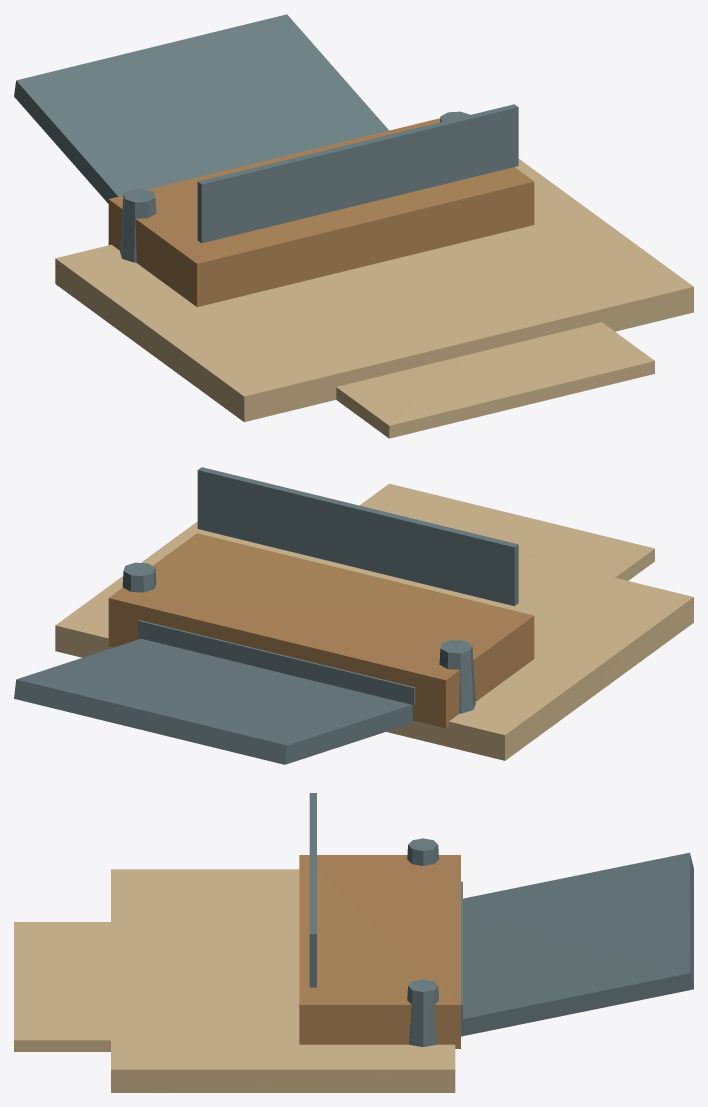
File: Ferry-Landing.glb
The picture shows the model from 3 angles, top to bottom: view 1: azimuth 30°, elevation 25°; view 2: azimuth 150°, elevation 25°; view 3: azimuth 270°, elevation 25°; orthographic projection. The views are drawn at different scales.
Parts seen in each view (by area): view 1: ferry-landing-static-ferry-concrete, ferry-landing-static-ferry-dark-metal, ferry-landing-static-ferry-muted-teal, ferry-landing-static-ferry-galvanized, ferry-landing-static-ferry-warm-cream; view 2: ferry-landing-static-ferry-muted-teal, ferry-landing-static-ferry-dark-metal, ferry-landing-static-ferry-concrete, ferry-landing-static-ferry-galvanized, ferry-landing-static-ferry-warm-cream; view 3: ferry-landing-static-ferry-concrete, ferry-landing-static-ferry-dark-metal, ferry-landing-static-ferry-muted-teal, ferry-landing-static-ferry-warm-cream, ferry-landing-static-ferry-galvanized.
Boxes of the visible parts, box(x1,y1,x2,y2) form: ferry-landing-static-ferry-concrete: box(55, 159, 693, 422); ferry-landing-static-ferry-dark-metal: box(14, 14, 470, 262); ferry-landing-static-ferry-muted-teal: box(108, 118, 534, 306); ferry-landing-static-ferry-galvanized: box(197, 104, 518, 243); ferry-landing-static-ferry-warm-cream: box(336, 322, 654, 438); ferry-landing-static-ferry-muted-teal: box(108, 533, 534, 728); ferry-landing-static-ferry-dark-metal: box(14, 562, 475, 764); ferry-landing-static-ferry-concrete: box(55, 521, 693, 760); ferry-landing-static-ferry-galvanized: box(138, 467, 518, 705); ferry-landing-static-ferry-warm-cream: box(359, 483, 654, 580); ferry-landing-static-ferry-concrete: box(111, 869, 455, 1092); ferry-landing-static-ferry-dark-metal: box(407, 838, 693, 1046); ferry-landing-static-ferry-muted-teal: box(299, 855, 460, 1048); ferry-landing-static-ferry-warm-cream: box(14, 922, 110, 1051); ferry-landing-static-ferry-galvanized: box(309, 793, 462, 1019).
Size of the model in its own units: 4.4 by 1.33 by 6.32.
